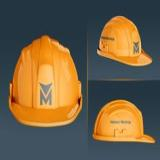Helmet: (8, 34, 83, 128), (92, 99, 156, 144), (97, 15, 152, 67)
